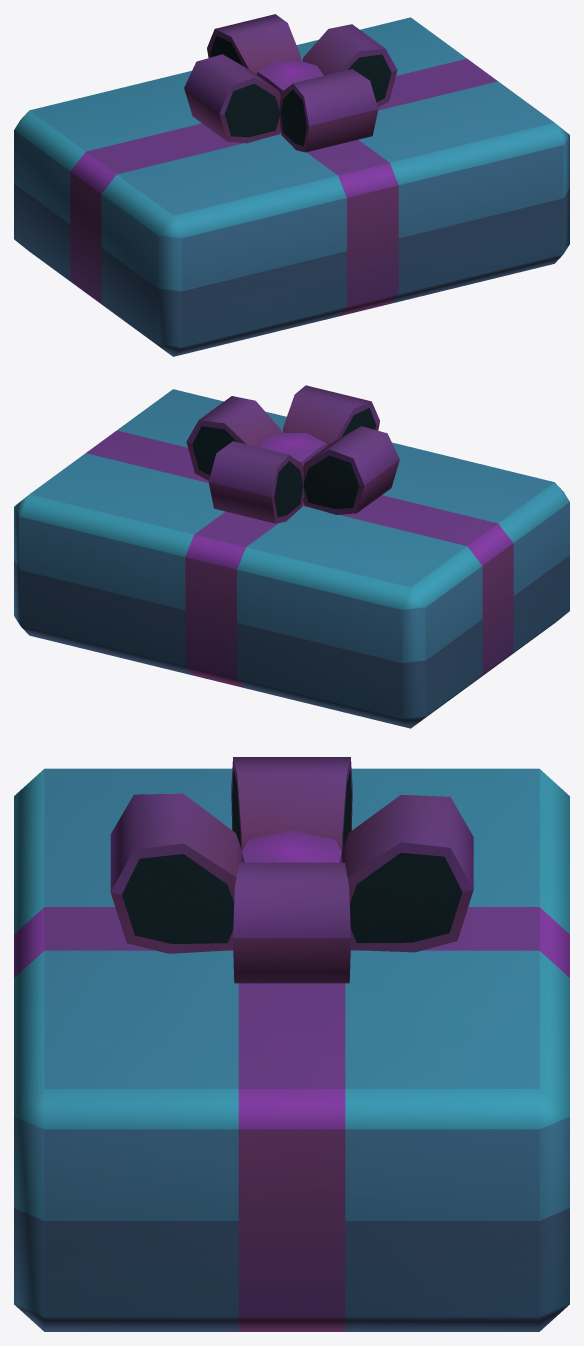
Rendered from presi_square_2_blue.fbx.
The picture shows the model from 3 angles, top to bottom: view 1: azimuth 30°, elevation 25°; view 2: azimuth 150°, elevation 25°; view 3: azimuth 270°, elevation 25°; orthographic projection. The views are drawn at different scales.
Visible parts, largest first — view 1: presi_square_2_blue; view 2: presi_square_2_blue; view 3: presi_square_2_blue.
Boxes of the visible parts, x1,y1,x2,y2 form: presi_square_2_blue: (14, 14, 569, 356); presi_square_2_blue: (14, 385, 569, 728); presi_square_2_blue: (14, 757, 569, 1331).
Size of the model in its own units: 156 by 74 by 106.
Materials: 1 (1 with a texture image).
